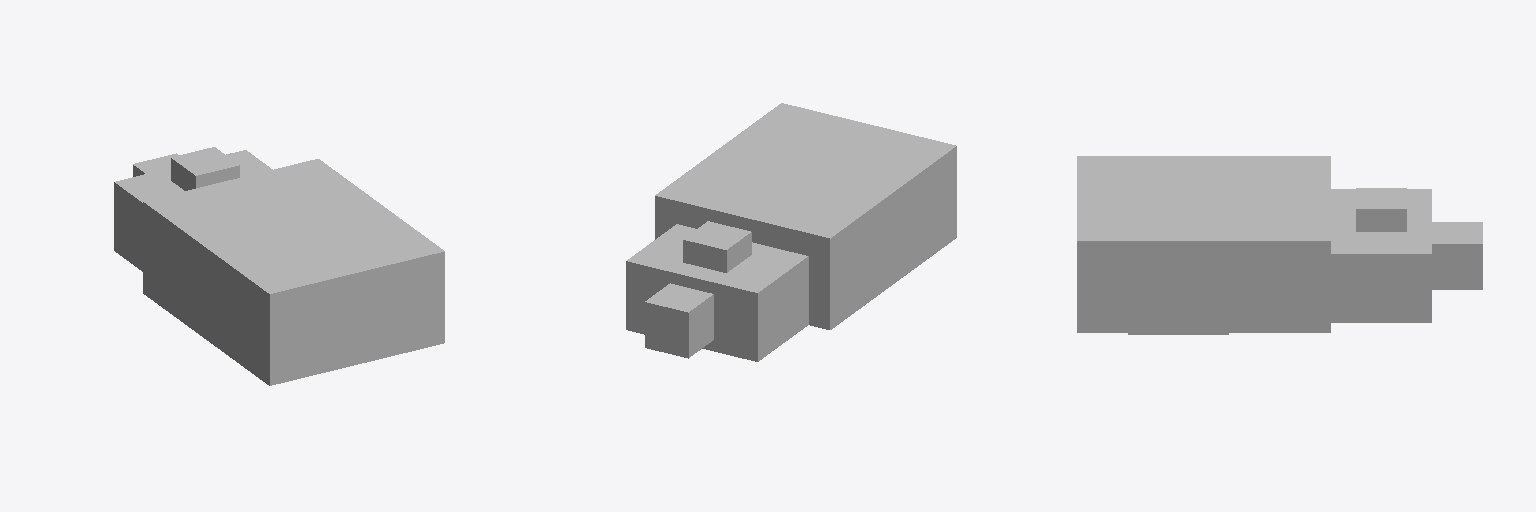
Rendered from pole_streetlight.obj.
The picture shows the model from 3 angles: view 1: azimuth 30°, elevation 25°; view 2: azimuth 150°, elevation 25°; view 3: azimuth 270°, elevation 25°; orthographic projection.
Visible parts, largest first — view 1: body; view 2: body; view 3: body.
Boxes of the visible parts, <box> form: body: <box>114,147,444,385</box>; body: <box>626,103,956,361</box>; body: <box>1077,156,1482,332</box>.
Size of the model in its own units: 0.5 by 0.3125 by 1.